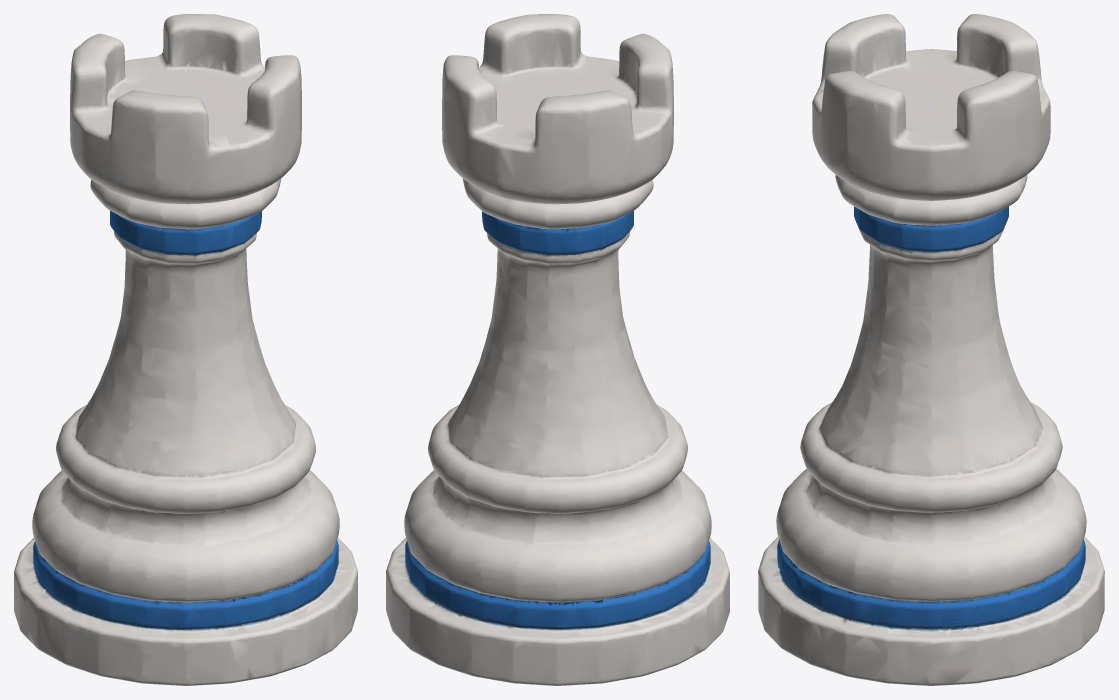
File: rook.glb
3 views of the same model, side by side, from view 1: azimuth 30°, elevation 25°; view 2: azimuth 150°, elevation 25°; view 3: azimuth 270°, elevation 25° (orthographic).
Size of the model in its own units: 1.06 by 1.9 by 1.06.
Materials: 1 (1 with a texture image).
